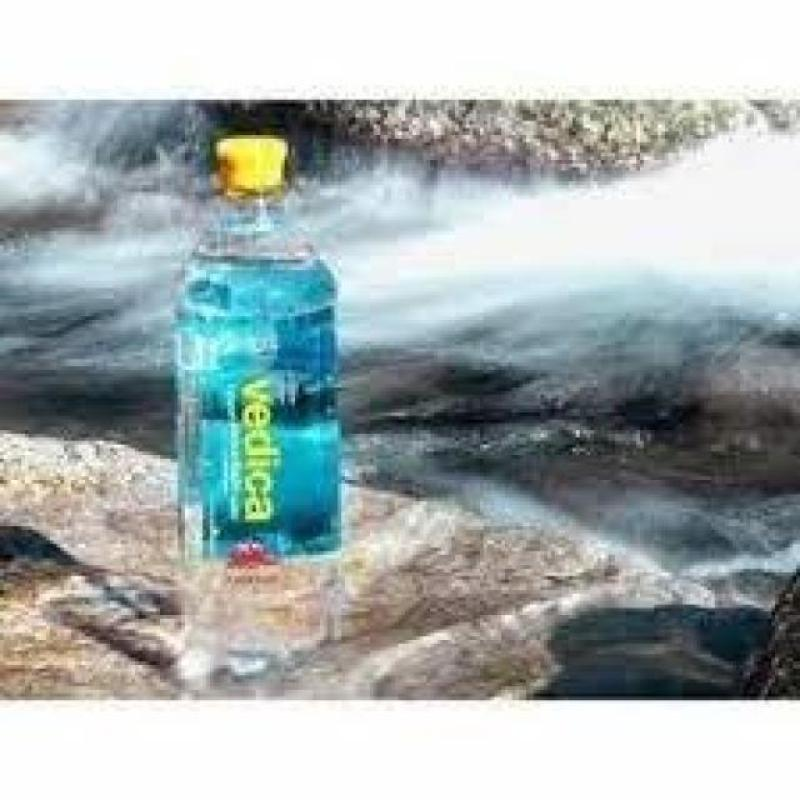botella: (174, 129, 345, 663)
